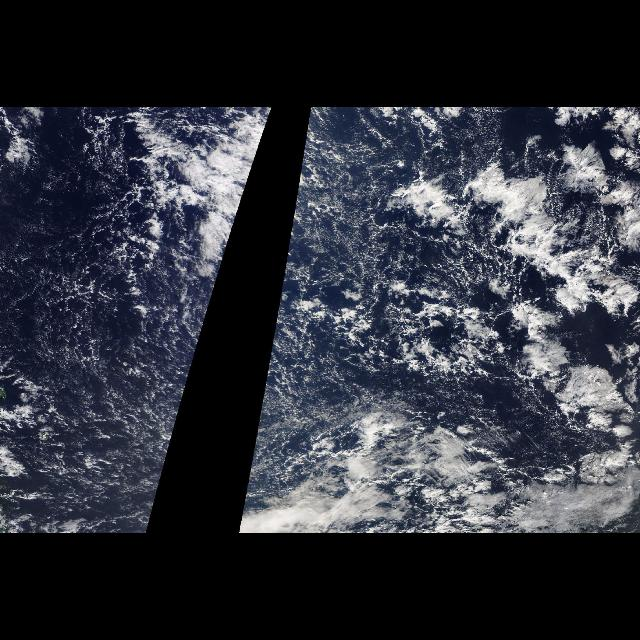Flower: (470, 114, 636, 476)
Gravel: (254, 202, 546, 448), (14, 182, 224, 448)
Sugar: (8, 172, 194, 532), (290, 211, 530, 301)
